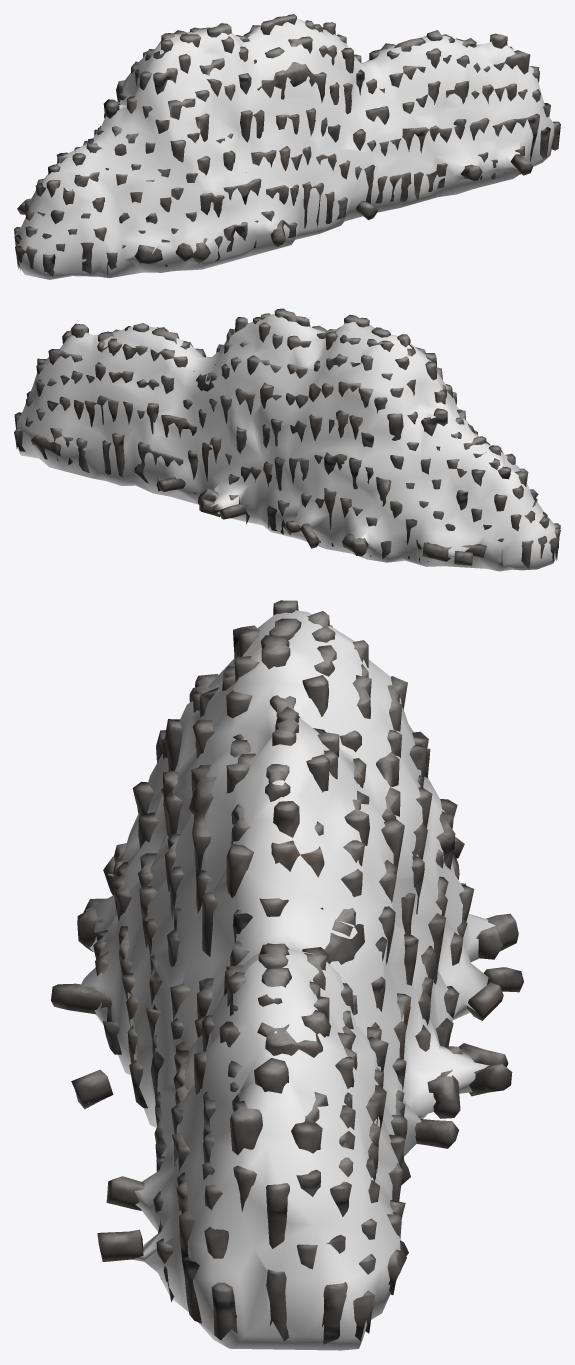
File: LM_BlackRidge.fbx
3 renders of one model, top to bottom at view 1: azimuth 30°, elevation 25°; view 2: azimuth 150°, elevation 25°; view 3: azimuth 270°, elevation 25°, orthographic. The views are drawn at different scales.
Parts seen in each view (by area): view 1: LM_BlackRidge_COL, LM_BlackRidge_LOD0; view 2: LM_BlackRidge_COL, LM_BlackRidge_LOD0; view 3: LM_BlackRidge_COL, LM_BlackRidge_LOD0.
Boxes of the visible parts, bbox=[...] form: LM_BlackRidge_COL: bbox=[15, 18, 554, 279]; LM_BlackRidge_LOD0: bbox=[14, 14, 560, 276]; LM_BlackRidge_COL: bbox=[17, 313, 556, 571]; LM_BlackRidge_LOD0: bbox=[14, 308, 560, 568]; LM_BlackRidge_COL: bbox=[80, 610, 495, 1350]; LM_BlackRidge_LOD0: bbox=[51, 600, 523, 1344].
Size of what is drawn, in the model's own units: 52.76 by 19.47 by 20.45.
